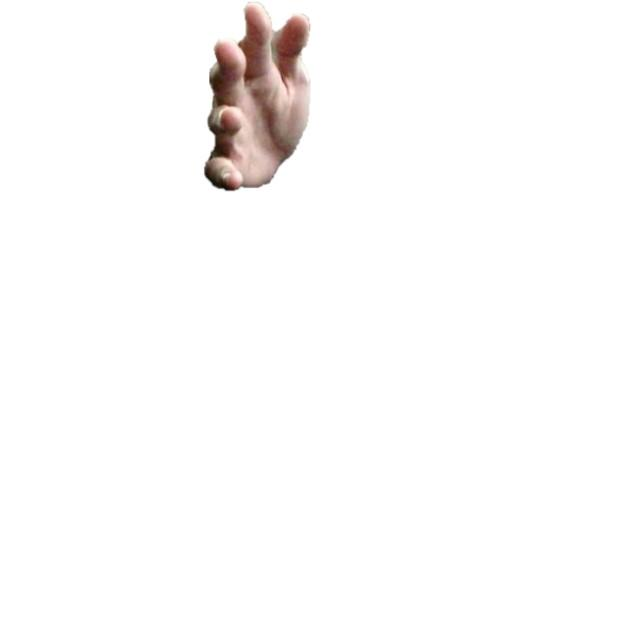pa-: (202, 1, 314, 192)
